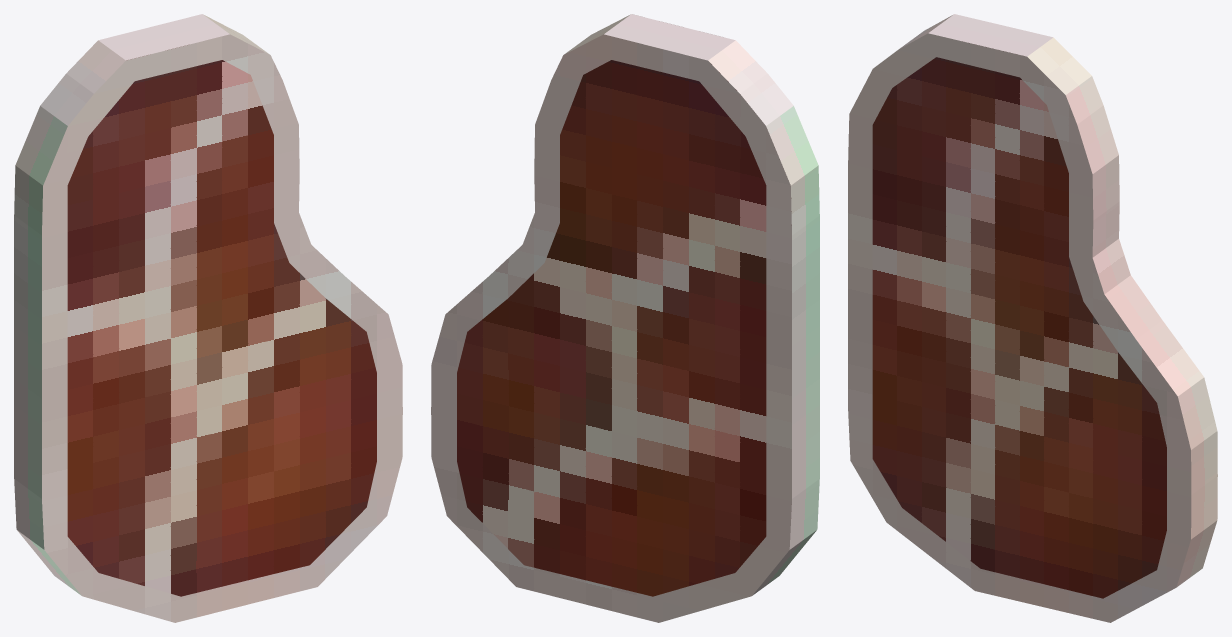
Rendered from steak-optimized.glb.
The picture shows the model from 3 angles, left to right: view 1: azimuth 30°, elevation 25°; view 2: azimuth 150°, elevation 25°; view 3: azimuth 330°, elevation 25°; orthographic projection. The views are drawn at different scales.
Visible parts, largest first — view 1: cuboid; view 2: cuboid; view 3: cuboid.
Part boxes in pixels (left/top/right/bottom): cuboid: left=14, top=14, right=402, bottom=622; cuboid: left=431, top=14, right=819, bottom=622; cuboid: left=848, top=14, right=1217, bottom=622.
Size of the model in its own units: 0.4687 by 0.7138 by 0.0625.
1 material, 1 textured.
